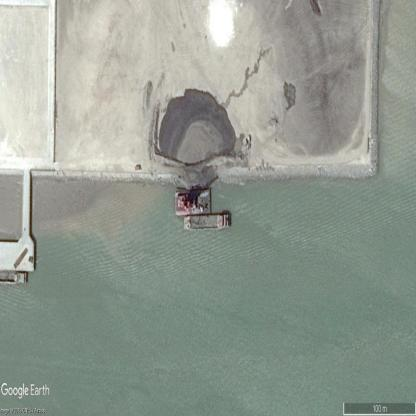ship: (172, 186, 215, 214), (182, 212, 232, 230)
